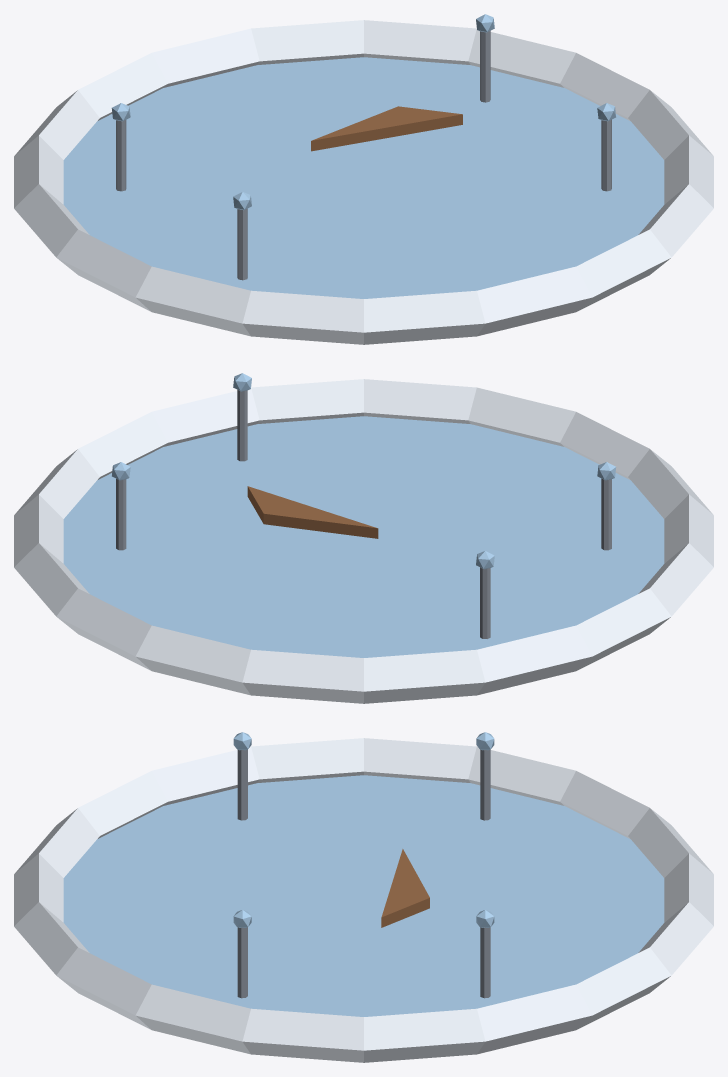
The model's file is skating_rink.fbx.
The picture shows the model from 3 angles, top to bottom: view 1: azimuth 30°, elevation 25°; view 2: azimuth 150°, elevation 25°; view 3: azimuth 270°, elevation 25°; orthographic projection.
Parts seen in each view (by area): view 1: skating_rink; view 2: skating_rink; view 3: skating_rink.
Part boxes in pixels (box(x1,y1,x2,y2)): skating_rink: box(14, 14, 713, 344); skating_rink: box(14, 373, 713, 703); skating_rink: box(14, 732, 713, 1062).
Bounding box in the file's own units: 4000 × 636 × 3939.
